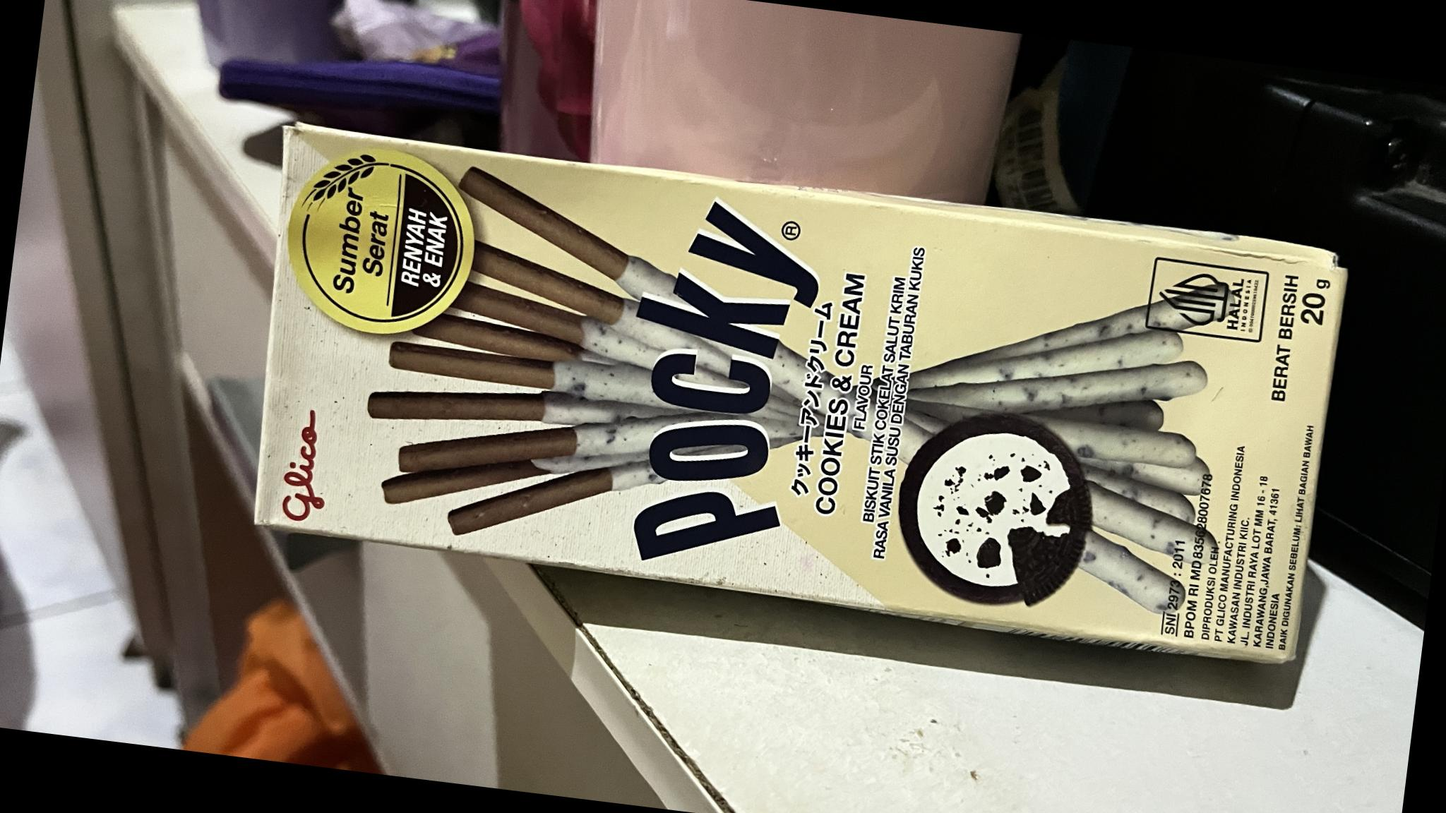Kertas: (251, 124, 1344, 663)
